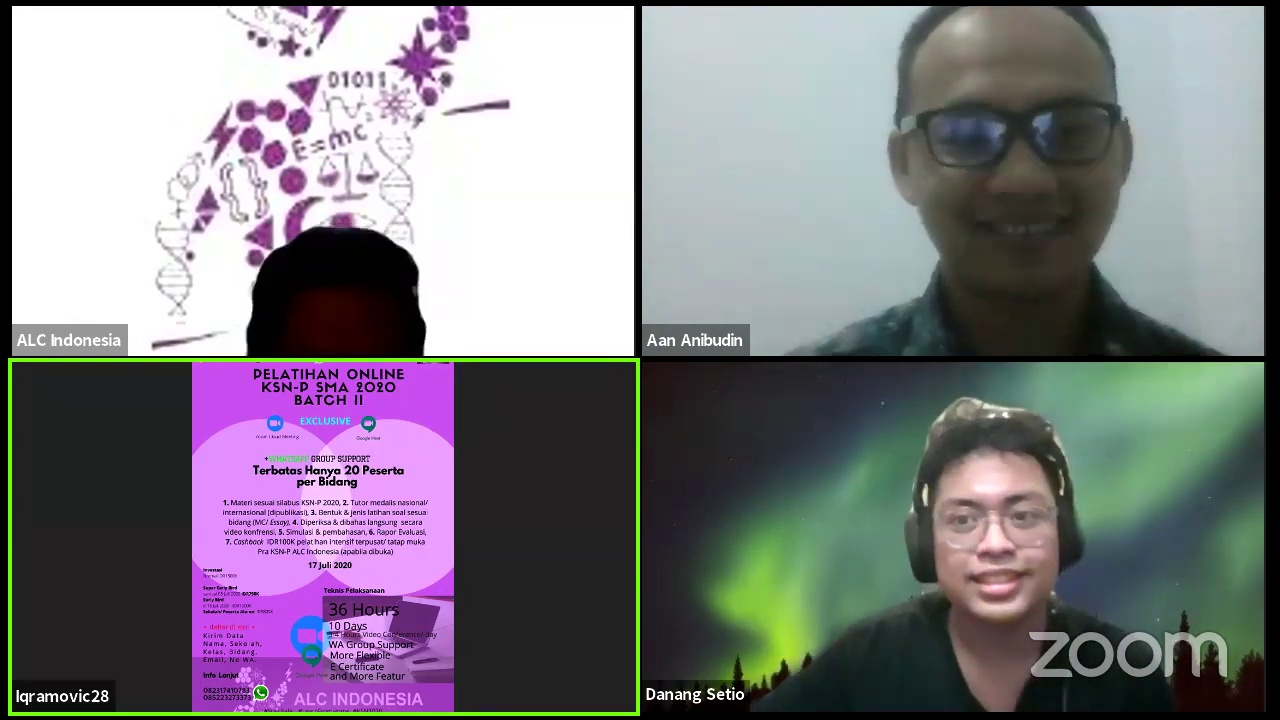Distracted: (243, 241, 422, 356)
Not Distracted: (884, 28, 1130, 292), (902, 426, 1080, 620)
